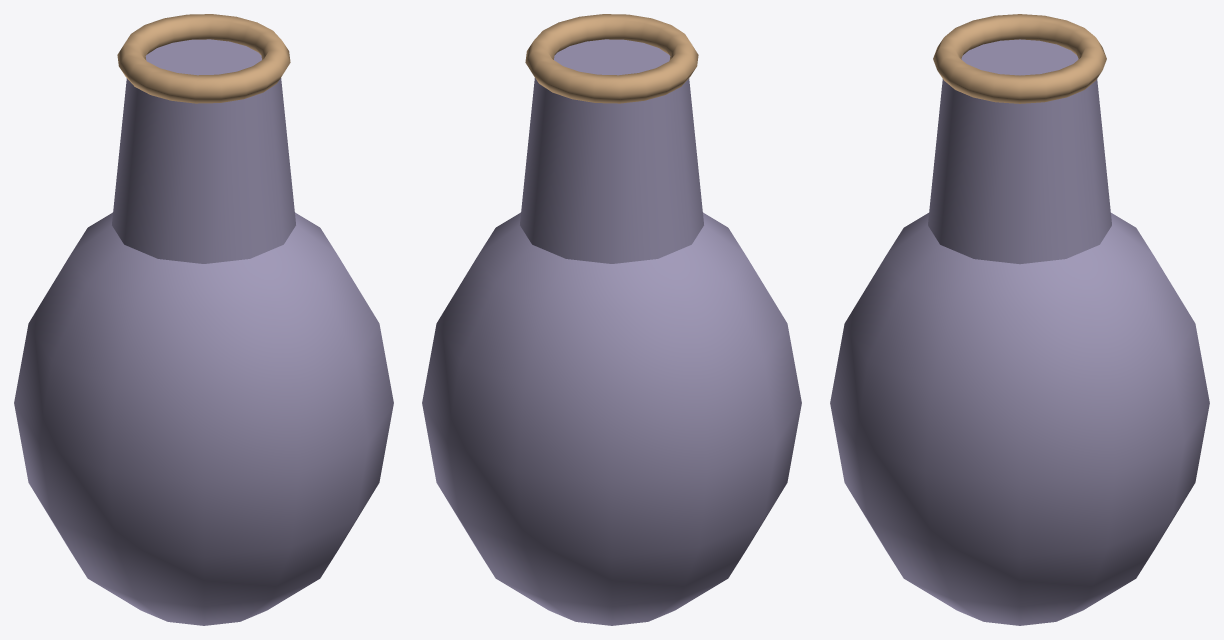
Rendered from product-off.vase.glb.
3 views of the same model, side by side, from view 1: azimuth 30°, elevation 25°; view 2: azimuth 150°, elevation 25°; view 3: azimuth 270°, elevation 25° (orthographic).
Visible parts, largest first — view 1: product-off.vase; view 2: product-off.vase; view 3: product-off.vase.
Boxes of the visible parts, x1=… form: product-off.vase: x1=14, y1=14, x2=393, y2=625; product-off.vase: x1=422, y1=14, x2=801, y2=625; product-off.vase: x1=830, y1=14, x2=1209, y2=625.
Size of the model in its own units: 0.24 by 0.3928 by 0.24.
